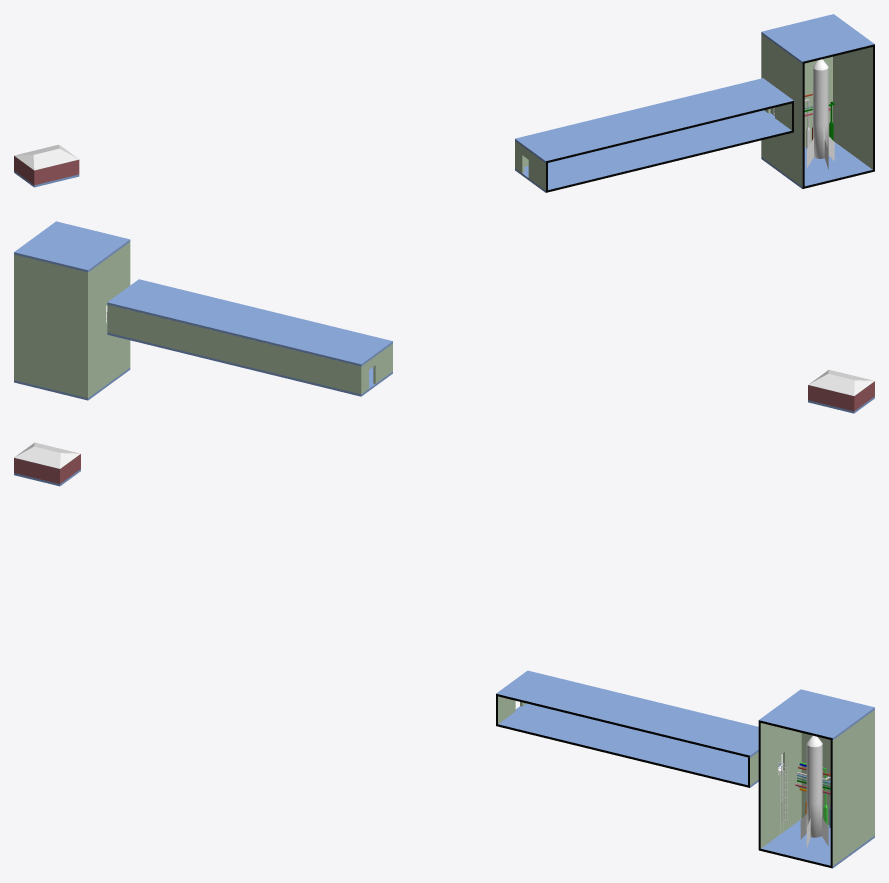
File: spaceship room2.fbx
3 renders of one model, top to bottom at view 1: azimuth 30°, elevation 25°; view 2: azimuth 150°, elevation 25°; view 3: azimuth 330°, elevation 25°, orthographic. The views are drawn at different scales.
Visible parts, largest first — view 1: Component_2690, Component_2686, Component_2694, Component_2693, Component_2692, Rocket1, Component_2691, Component_2695, Component_5, Component_2687, Component_4, Component_2688; view 2: Component_2695, Component_2690, Component_2689, Component_2693, Component_2692, Component_5, Component_2686, Component_2687, Component_2; view 3: Component_2690, Component_2686, Component_2694, Component_2693, Component_2692, Rocket1, Component_2691, Component_2695, Component_5.
Boxes of the visible parts, x1,y1,x2,y2 form: Component_2690: (515,78,793,163); Component_2686: (515,110,793,192); Component_2694: (833,46,874,169); Component_2693: (761,34,804,186); Component_2692: (761,14,874,63); Rocket1: (807,59,834,169); Component_2691: (761,142,874,188); Component_2695: (804,56,832,147); Component_5: (14,144,78,170); Component_2687: (515,141,547,190); Component_4: (35,160,78,184); Component_2688: (764,103,793,130); Component_2695: (16,255,85,397); Component_2690: (107,279,392,366); Component_2689: (109,305,358,393); Component_2693: (86,242,130,398); Component_2692: (14,221,130,272); Component_5: (808,369,874,396); Component_2686: (107,332,392,396); Component_2687: (359,343,392,394); Component_2: (809,385,854,411); Component_2690: (496,670,758,757); Component_2686: (496,703,781,787); Component_2694: (830,710,874,866); Component_2693: (758,722,801,848); Component_2692: (758,689,874,740); Rocket1: (800,735,828,848); Component_2691: (758,819,874,868); Component_2695: (801,733,830,825); Component_5: (14,442,80,468).
Size of the model in its own units: 116650 by 26111 by 10154.
